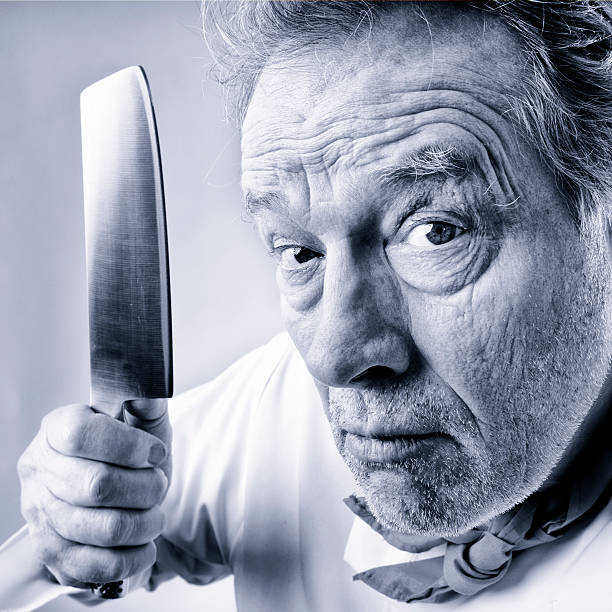knife: (78, 64, 177, 598)
